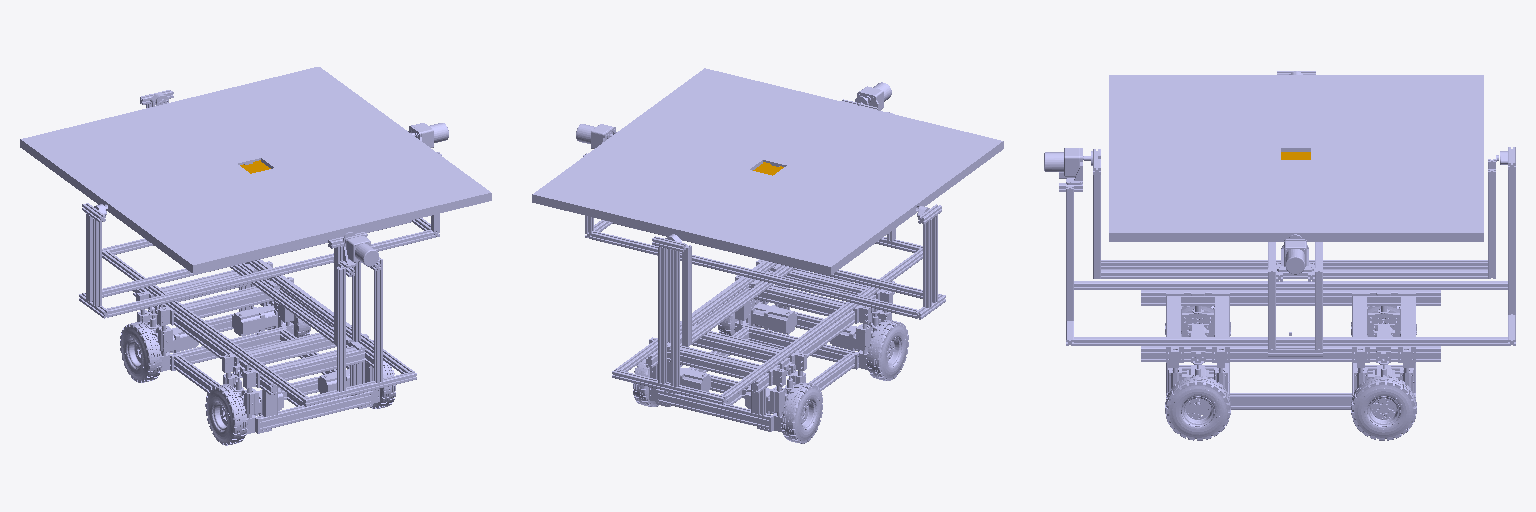
--- Facts derived from the render (not from the file) ---
Views: 3 orthographic renders of the robot side by side, from view 1: azimuth 30°, elevation 25°; view 2: azimuth 150°, elevation 25°; view 3: azimuth 270°, elevation 25°.
Model Mobile_Leveling_Platform_V2 with 21 links and 20 joints (2 revolute, 4 continuous, 14 fixed), rooted at base_link, posed every joint at zero.
Visible links, largest first — view 1: upper_link, mating_link, under_upper_link, base_link, front_leveling_link, rear_R_tire_link, front_R_tire_link; view 2: upper_link, mating_link, under_upper_link, base_link, rear_Leveling_link, rear_R_tire_link, front_R_tire_link, front_leveling_link, rear_L_tire_link; view 3: upper_link, mating_link, under_upper_link, base_link, rear_L_tire_link, front_L_tire_link, front_leveling_link, rear_Leveling_link.
Boxes of the visible links, left/top/right/bottom form: upper_link: left=20, top=67, right=491, bottom=273; mating_link: left=102, top=238, right=416, bottom=406; under_upper_link: left=79, top=123, right=448, bottom=345; base_link: left=137, top=263, right=379, bottom=434; front_leveling_link: left=337, top=234, right=382, bottom=391; rear_R_tire_link: left=120, top=321, right=161, bottom=382; front_R_tire_link: left=205, top=384, right=247, bottom=445; upper_link: left=532, top=68, right=1003, bottom=274; mating_link: left=612, top=237, right=922, bottom=404; under_upper_link: left=576, top=99, right=945, bottom=346; base_link: left=649, top=261, right=891, bottom=432; rear_Leveling_link: left=652, top=234, right=685, bottom=386; rear_R_tire_link: left=781, top=382, right=822, bottom=443; front_R_tire_link: left=867, top=320, right=908, bottom=380; front_leveling_link: left=855, top=82, right=895, bottom=241; rear_L_tire_link: left=633, top=359, right=658, bottom=406; upper_link: left=1109, top=75, right=1483, bottom=241; mating_link: left=1066, top=281, right=1515, bottom=367; under_upper_link: left=1093, top=71, right=1495, bottom=356; base_link: left=1166, top=306, right=1415, bottom=414; rear_L_tire_link: left=1351, top=375, right=1416, bottom=440; front_L_tire_link: left=1165, top=375, right=1230, bottom=440; front_leveling_link: left=1044, top=148, right=1083, bottom=320; rear_Leveling_link: left=1496, top=147, right=1515, bottom=314.
Bounding box of the posed robot: 1.78 × 1.89 × 1.09 m (x, y, z).
15 mesh visuals loaded from 16 distinct referenced files (15 binary STL); not drawn: 1 (reference not matched to a file when rendering).

URDF robot description (Mobile_Leveling_Platform_V2):
<?xml version="1.0" encoding="utf-8"?>
<!-- =================================================================================== -->
<!-- |    This document was autogenerated by xacro from Mobile_Leveling_Platform_V2.urdf.xacro | -->
<!-- |    EDITING THIS FILE BY HAND IS NOT RECOMMENDED                                 | -->
<!-- =================================================================================== -->
<!-- This URDF was automatically created by SolidWorks to URDF Exporter! Originally created by Stephen Brawner ([email redacted]) 
     Commit Version: 1.5.1-0-g916b5db  Build Version: 1.5.7152.31018
     For more information, please see http://wiki.ros.org/sw_urdf_exporter -->
<robot name="Mobile_Leveling_Platform_V2">
  <gazebo>
    <kp>1000000.0</kp>
    <kd>1.0</kd>
    <mu1>0.8</mu1>
    <mu2>0.8</mu2>
    <maxVel>0.0</maxVel>
    <minDepth>0.001</minDepth>
  </gazebo>
  <!--
<gazebo reference="base_link">
  <kp>1000000.0</kp>
  <kd>1.0</kd>
  <mu1>0.8</mu1>
  <mu2>0.8</mu2>
  <maxVel>0.0</maxVel>
  <minDepth>0.001</minDepth>
</gazebo>

	<gazebo reference="front_L_motor_rev_link">
	  <kp>1000000.0</kp>
	  <kd>1.0</kd>
	  <mu1>0.8</mu1>
	  <mu2>0.8</mu2>
	  <maxVel>0.0</maxVel>
	  <minDepth>0.001</minDepth>
	</gazebo>

		<gazebo reference="front_L_tire_link">
		  <kp>1000000.0</kp>
		  <kd>1.0</kd>
		  <mu1>0.8</mu1>
		  <mu2>0.8</mu2>
		  <maxVel>0.0</maxVel>
		  <minDepth>0.001</minDepth>
		</gazebo>


	<gazebo reference="front_R_motor_rev_link">
	  <kp>1000000.0</kp>
	  <kd>1.0</kd>
	  <mu1>0.8</mu1>
	  <mu2>0.8</mu2>
	  <maxVel>0.0</maxVel>
	  <minDepth>0.001</minDepth>
	</gazebo>

		<gazebo reference="front_R_tire_link">
		  <kp>1000000.0</kp>
		  <kd>1.0</kd>
		  <mu1>0.8</mu1>
		  <mu2>0.8</mu2>
		  <maxVel>0.0</maxVel>
		  <minDepth>0.001</minDepth>
		</gazebo>

	<gazebo reference="rear_L_motor_rev_link">
	  <kp>1000000.0</kp>
	  <kd>1.0</kd>
	  <mu1>0.8</mu1>
	  <mu2>0.8</mu2>
	  <maxVel>0.0</maxVel>
	  <minDepth>0.001</minDepth>
	</gazebo>

		<gazebo reference="rear_L_tire_link">
		  <kp>1000000.0</kp>
		  <kd>1.0</kd>
		  <mu1>0.8</mu1>
		  <mu2>0.8</mu2>
		  <maxVel>0.0</maxVel>
		  <minDepth>0.001</minDepth>
		</gazebo>

	<gazebo reference="rear_R_motor_rev_link">
	  <kp>1000000.0</kp>
	  <kd>1.0</kd>
	  <mu1>0.8</mu1>
	  <mu2>0.8</mu2>
	  <maxVel>0.0</maxVel>
	  <minDepth>0.001</minDepth>
	</gazebo>

		<gazebo reference="rear_R_tire_link">
		  <kp>1000000.0</kp>
		  <kd>1.0</kd>
		  <mu1>0.8</mu1>
		  <mu2>0.8</mu2>
		  <maxVel>0.0</maxVel>
		  <minDepth>0.001</minDepth>
		</gazebo>

	<gazebo reference="mating_link">
	  <kp>1000000.0</kp>
	  <kd>1.0</kd>
	  <mu1>0.8</mu1>
	  <mu2>0.8</mu2>
	  <maxVel>0.0</maxVel>
	  <minDepth>0.001</minDepth>
	</gazebo>

		<gazebo reference="front_leveling_link">
		  <kp>1000000.0</kp>
		  <kd>1.0</kd>
		  <mu1>0.8</mu1>
		  <mu2>0.8</mu2>
		  <maxVel>0.0</maxVel>
		  <minDepth>0.001</minDepth>
		</gazebo>

			<gazebo reference="front_motor_rev_link">
			  <kp>1000000.0</kp>
			  <kd>1.0</kd>
			  <mu1>0.8</mu1>
			  <mu2>0.8</mu2>
			  <maxVel>0.0</maxVel>
			  <minDepth>0.001</minDepth>
			</gazebo>

				<gazebo reference="under_upper_link">
				  <kp>1000000.0</kp>
				  <kd>1.0</kd>
				  <mu1>0.8</mu1>
				  <mu2>0.8</mu2>
				  <maxVel>0.0</maxVel>
				  <minDepth>0.001</minDepth>
				</gazebo>

					<gazebo reference="upper_motor_rev_link">
					  <kp>1000000.0</kp>
					  <kd>1.0</kd>
					  <mu1>0.8</mu1>
					  <mu2>0.8</mu2>
					  <maxVel>0.0</maxVel>
					  <minDepth>0.001</minDepth>
					</gazebo>

						<gazebo reference="upper_link">
						  <kp>1000000.0</kp>
						  <kd>1.0</kd>
						  <mu1>0.8</mu1>
						  <mu2>0.8</mu2>
						  <maxVel>0.0</maxVel>
						  <minDepth>0.001</minDepth>
						</gazebo>

<gazebo reference="rear_Leveling_link">
  <kp>1000000.0</kp>
  <kd>1.0</kd>
  <mu1>0.8</mu1>
  <mu2>0.8</mu2>
  <maxVel>0.0</maxVel>
  <minDepth>0.001</minDepth>
</gazebo>
-->
  <!--joint-->
  <gazebo reference="front_L_tire_joint">
    <implicitSpringDamper>true</implicitSpringDamper>
    <springStiffness>true</springStiffness>
  </gazebo>
  <gazebo reference="front_R_tire_joint">
    <implicitSpringDamper>true</implicitSpringDamper>
    <springStiffness>true</springStiffness>
  </gazebo>
  <gazebo reference="rear_L_tire_joint">
    <implicitSpringDamper>true</implicitSpringDamper>
    <springStiffness>true</springStiffness>
  </gazebo>
  <gazebo reference="rear_R_tire_joint">
    <implicitSpringDamper>true</implicitSpringDamper>
    <springStiffness>true</springStiffness>
  </gazebo>
  <link name="marker">
    <inertial>
      <origin rpy="0 0 0" xyz="0 0 0"/>
      <mass value="0.1"/>
      <inertia ixx="0.000001667" ixy="0" ixz="0" iyy="0.000001667" iyz="0" izz="0.000001667"/>
    </inertial>
    <visual>
      <origin rpy="0 0 0" xyz="0 0 0"/>
      <geometry>
        <box size="0.3556 0.3556 0.005"/>
      </geometry>
      <material name="ArucoVisualMarker7/Marker">
        <script>
          <uri materials="[local-path]/catkin_ws/src/Mobile_Leveling_Platform_V2/aruco_visual_marker_7/materials/textures/aruco_visual_marker_7_marker.material"/>
        </script>
        <ambient>1 1 1 1</ambient>
        <diffuse>1 1 1 1</diffuse>
        <specular>0 0 0 1</specular>
        <emissive>1 1 1 0</emissive>
        <shader type="vertex">
          <normal_map>__default__</normal_map>
        </shader>
      </material>
      <cast_shadows>1</cast_shadows>
      <transparency>0</transparency>
    </visual>
    <collision>
      <origin rpy="0 0 0" xyz="0 0 0"/>
      <geometry>
        <box size="0.3556 0.3556 1e-05"/>
      </geometry>
      <laser_retro>0</laser_retro>
      <max_contacts>10</max_contacts>
    </collision>
  </link>
  <link name="marker_pad">
    <inertial>
      <origin rpy="0 0 0" xyz="0 0 -1e-5"/>
      <mass value="0.1"/>
      <inertia ixx="0.000001667" ixy="0" ixz="0" iyy="0.000001667" iyz="0" izz="0.000001667"/>
    </inertial>
    <visual>
      <origin rpy="0 0 0" xyz="0 0 0"/>
      <geometry>
        <box size="0.3556 0.3556 1e-5"/>
      </geometry>
      <material name="Gazebo/White">
        <lighting>1</lighting>
        <script>
          <uri>file://media/materials/scripts/gazebo.material</uri>
        </script>
        <ambient>0.3 0.3 0.3 1</ambient>
        <diffuse>0.7 0.7 0.7 1</diffuse>
        <specular>0.01 0.01 0.01 1</specular>
        <emissive>1 1 1 0</emissive>
        <shader type="vertex">
          <normal_map>__default__</normal_map>
        </shader>
      </material>
      <cast_shadows>1</cast_shadows>
      <transparency>0</transparency>
    </visual>
    <collision>
      <origin rpy="0 0 0" xyz="0 0 0"/>
      <geometry>
        <box size="0.3556 0.3556 1e-05"/>
      </geometry>
      <laser_retro>0</laser_retro>
      <max_contacts>10</max_contacts>
    </collision>
  </link>
  <joint name="marker_markerpad_joint" type="fixed">
    <origin rpy="0 0 0" xyz="0 0 0"/>
    <parent link="marker"/>
    <child link="marker_pad"/>
    <axis xyz="0 0 0"/>
  </joint>
  <static>1</static>
  <allow_auto_disable>1</allow_auto_disable>
  <!--Mobile_Robot control-->
  <gazebo>
    <plugin filename="libgazebo_ros_skid_steer_drive.so" name="skid_steer_drive_controller">
      <updateRate>100</updateRate>
      <robotNamespace>/</robotNamespace>
      <leftFrontJoint>front_L_motor_rev_joint</leftFrontJoint>
      <rightFrontJoint>front_R_motor_rev_joint</rightFrontJoint>
      <leftRearJoint>rear_L_motor_rev_joint</leftRearJoint>
      <rightRearJoint>rear_R_motor_rev_joint</rightRearJoint>
      <wheelSeparation>0.67</wheelSeparation>
      <wheelDiameter>0.264453</wheelDiameter>
      <robotBaseFrame>base_link</robotBaseFrame>
      <torque>100</torque>
      <commandTopic>twist2gazebo</commandTopic>
      <broadcastTF>false</broadcastTF>
    </plugin>
  </gazebo>
  <!--Leveling_Platform control-->
  <gazebo>
    <plugin filename="libgazebo_ros_control.so" name="gazebo_ros_control">
      <robotNamespace>platform/MLP</robotNamespace>
      <robotSimType>gazebo_ros_control/DefaultRobotHWSim</robotSimType>
    </plugin>
  </gazebo>
  <transmission name="trans1">
    <type>transmission_interface/SimpleTransmission</type>
    <joint name="front_motor_rev_joint">
      <hardwareInterface>hardware_interface/PositionJointInterface</hardwareInterface>
    </joint>
    <actuator name="front_motor_rev_motor">
      <mechanicalReduction>50</mechanicalReduction>
      <hardwareInterface>hardware_interface/PositionJointInterface</hardwareInterface>
    </actuator>
  </transmission>
  <transmission name="trans2">
    <type>transmission_interface/SimpleTransmission</type>
    <joint name="upper_motor_rev_joint">
      <hardwareInterface>hardware_interface/PositionJointInterface</hardwareInterface>
    </joint>
    <actuator name="upper_motor_rev_motor">
      <mechanicalReduction>50</mechanicalReduction>
      <hardwareInterface>hardware_interface/PositionJointInterface</hardwareInterface>
    </actuator>
  </transmission>
  <!--IMU Plugin-->
  <gazebo reference="imu_link_upper">
    <gravity>true</gravity>
    <sensor name="imu_sensor" type="imu">
      <always_on>true</always_on>
      <update_rate>100</update_rate>
      <visualize>true</visualize>
      <topic>__default_topic__</topic>
      <plugin filename="libgazebo_ros_imu_sensor.so" name="imu_plugin">
        <topicName>imu_upper</topicName>
        <bodyName>imu_link_upper</bodyName>
        <updateRateHZ>10.0</updateRateHZ>
        <gaussianNoise>0.0</gaussianNoise>
        <xyzOffset>0 0 0</xyzOffset>
        <rpyOffset>0 0 0</rpyOffset>
        <frameName>imu_link_upper</frameName>
        <initialOrientationAsReference>false</initialOrientationAsReference>
      </plugin>
      <pose>0 0 0 0 0 0</pose>
    </sensor>
  </gazebo>
  <gazebo reference="imu_link_base">
    <gravity>true</gravity>
    <sensor name="imu_sensor" type="imu">
      <always_on>true</always_on>
      <update_rate>100</update_rate>
      <visualize>true</visualize>
      <topic>__default_topic__</topic>
      <plugin filename="libgazebo_ros_imu_sensor.so" name="imu_plugin">
        <topicName>imu_base</topicName>
        <bodyName>imu_link_base</bodyName>
        <updateRateHZ>10.0</updateRateHZ>
        <gaussianNoise>0.0</gaussianNoise>
        <xyzOffset>0 0 0</xyzOffset>
        <rpyOffset>0 0 0</rpyOffset>
        <frameName>imu_link_base</frameName>
        <initialOrientationAsReference>false</initialOrientationAsReference>
      </plugin>
      <pose>0 0 0 0 0 0</pose>
    </sensor>
  </gazebo>
  <!-- GPS -->
  <gazebo>
    <plugin filename="libhector_gazebo_ros_gps.so" name="GazeboRosGps">
      <updateRate>100</updateRate>
      <robotNamespace>platform/MLP</robotNamespace>
      <bodyName>GPS_link</bodyName>
      <frameId>default_empty</frameId>
      <topicName>fix</topicName>
      <velocityTopicName>fix_velocity</velocityTopicName>
      <referenceLatitude>36.146581</referenceLatitude>
      <referenceLongitude>128.388039</referenceLongitude>
      <referenceHeading>0</referenceHeading>
      <referenceAltitude>0</referenceAltitude>
      <status>STATIS_FIX</status>
      <service>SERVICE_GPS	</service>
      <offset>0 0 0 0 0 0</offset>
      <drift>0</drift>
      <driftFrequency>100</driftFrequency>
      <gaussianNoise>0</gaussianNoise>
      <velocityOffset>0</velocityOffset>
      <velocityDrift>0</velocityDrift>
      <velocityDriftFrequency>100</velocityDriftFrequency>
      <velocityGaussianNoise>0</velocityGaussianNoise>
    </plugin>
  </gazebo>
  <!--link color-->
  <gazebo reference="beacon_link">
    <material>Gazebo/Green</material>
  </gazebo>
  <gazebo reference="GPS_link">
    <material>Gazebo/Black</material>
  </gazebo>
  <!--link & joint-->
  <link name="base_link">
    <inertial>
      <origin rpy="0 0 0" xyz="0 0 0"/>
      <mass value="15.686"/>
      <inertia ixx="3.1779" ixy="0" ixz="0" iyy="3.6754" iyz="0" izz="4.4975"/>
    </inertial>
    <visual>
      <origin rpy="0 0 0" xyz="0 1.5 0"/>
      <geometry>
        <mesh filename="package://Mobile_Leveling_Platform_V2/meshes/base_link.STL"/>
      </geometry>
      <material name="">
        <color rgba="0.82353 0.82353 1 1"/>
      </material>
    </visual>
    <collision>
      <origin rpy="0 0 0" xyz="0 0 0"/>
      <geometry>
        <box size="0.64 0.998 0.222"/>
      </geometry>
    </collision>
  </link>
  <joint name="imu_base_joint" type="fixed">
    <origin rpy="0 0 0" xyz="0 0 0.111"/>
    <parent link="base_link"/>
    <child link="imu_link_base"/>
    <axis xyz="0 0 0"/>
  </joint>
  <link name="imu_link_base">
    <inertial>
      <origin rpy="0 0 0" xyz="0 0 0"/>
      <mass value="0.1"/>
      <inertia ixx="0.000001667" ixy="0" ixz="0" iyy="0.000001667" iyz="0" izz="0.000001667"/>
    </inertial>
    <visual>
      <origin rpy="0 0 0" xyz="0 0 0"/>
      <geometry>
        <box size="0.01 0.01 0.01"/>
      </geometry>
      <material name="">
        <color rgba="0.82353 0.82353 1 1"/>
      </material>
    </visual>
    <collision>
      <origin rpy="0 0 0" xyz="0 0 0"/>
      <geometry>
        <box size="0.01 0.01 0.01"/>
      </geometry>
    </collision>
  </link>
  <link name="front_L_motor_rev_link">
    <inertial>
      <origin rpy="0 0 0" xyz="0 0 0"/>
      <mass value="0.075717"/>
      <inertia ixx="3.7606E-05" ixy="1.0136E-07" ixz="-5.7378E-07" iyy="3.7419E-05" iyz="-1.7765E-07" izz="3.9868E-05"/>
    </inertial>
    <visual>
      <origin rpy="0 0 0" xyz="0 0 0"/>
      <geometry>
        <mesh filename="package://Mobile_Leveling_Platform_V2/meshes/front_L_motor_rev_link.STL"/>
      </geometry>
      <material name="">
        <color rgba="0.82353 0.82353 1 1"/>
      </material>
    </visual>
    <collision>
      <origin rpy="0 0 0" xyz="0 0 0"/>
      <geometry>
        <mesh filename="package://Mobile_Leveling_Platform_V2/meshes/front_L_motor_rev_link.STL"/>
      </geometry>
    </collision>
  </link>
  <joint name="front_L_motor_rev_joint" type="continuous">
    <origin rpy="0 -1.5708 0" xyz="0.363 -0.3709 -0.041791"/>
    <parent link="base_link"/>
    <child link="front_L_motor_rev_link"/>
    <axis xyz="0 0 -1"/>
    <dynamics damping="0.7" friction="0.0"/>
  </joint>
  <link name="front_L_tire_link">
    <inertial>
      <origin rpy="0 0 0" xyz="0 0 0"/>
      <mass value="2.9551"/>
      <inertia ixx="0.029016" ixy="0" ixz="0" iyy="0.015583" iyz="0" izz="0.015587"/>
    </inertial>
    <visual>
      <origin rpy="0 0 0" xyz="0 0 0"/>
      <geometry>
        <mesh filename="package://Mobile_Leveling_Platform_V2/meshes/front_L_tire_link.STL"/>
      </geometry>
      <material name="">
        <color rgba="0.82353 0.82353 1 1"/>
      </material>
    </visual>
    <collision>
      <origin rpy="0 0 0" xyz="0 0 0"/>
      <geometry>
        <mesh filename="package://Mobile_Leveling_Platform_V2/meshes/front_L_tire_link.STL"/>
      </geometry>
    </collision>
  </link>
  <joint name="front_L_tire_joint" type="fixed">
    <origin rpy="0.13209 1.5708 0" xyz="0 0 -0.011"/>
    <parent link="front_L_motor_rev_link"/>
    <child link="front_L_tire_link"/>
    <axis xyz="0 0 0"/>
  </joint>
  <link name="front_R_motor_link">
    <inertial>
      <origin rpy="0 0 0" xyz="0 0 0"/>
      <mass value="0.075717"/>
      <inertia ixx="3.7606E-05" ixy="1.0136E-07" ixz="-5.7378E-07" iyy="3.7419E-05" iyz="-1.7765E-07" izz="3.9868E-05"/>
    </inertial>
    <visual>
      <origin rpy="0 0 0" xyz="0 0 0"/>
      <geometry>
        <mesh filename="package://Mobile_Leveling_Platform_V2/meshes/front_R_motor_link.STL"/>
      </geometry>
      <material name="">
        <color rgba="0.82353 0.82353 1 1"/>
      </material>
    </visual>
    <collision>
      <origin rpy="0 0 0" xyz="0 0 0"/>
      <geometry>
        <mesh filename="package://Mobile_Leveling_Platform_V2/meshes/front_R_motor_link.STL"/>
      </geometry>
    </collision>
  </link>
  <joint name="front_R_motor_rev_joint" type="continuous">
    <origin rpy="3.1416 -1.5708 0" xyz="-0.363 -0.3709 -0.041791"/>
    <parent link="base_link"/>
    <child link="front_R_motor_link"/>
    <axis xyz="0 0 1"/>
    <dynamics damping="0.7" friction="0.8"/>
  </joint>
  <link name="front_R_tire_link">
    <inertial>
      <origin rpy="0 0 0" xyz="0 0 0"/>
      <mass value="2.9551"/>
      <inertia ixx="0.029016" ixy="0" ixz="0" iyy="0.015583" iyz="0" izz="0.015587"/>
    </inertial>
    <visual>
      <origin rpy="0 0 0" xyz="0 0 0"/>
      <geometry>
        <mesh filename="package://Mobile_Leveling_Platform_V2/meshes/front_R_tire_link.STL"/>
      </geometry>
      <material name="">
        <color rgba="0.82353 0.82353 1 1"/>
      </material>
    </visual>
    <collision>
      <origin rpy="0 0 0" xyz="0 0 0"/>
      <geometry>
        <mesh filename="package://Mobile_Leveling_Platform_V2/meshes/front_R_tire_link.STL"/>
      </geometry>
    </collision>
  </link>
  <joint name="front_R_tire_joint" type="fixed">
    <origin rpy="0.14726 1.5708 0" xyz="0 0 -0.011"/>
    <parent link="front_R_motor_link"/>
    <child link="front_R_tire_link"/>
    <axis xyz="0 0 0"/>
  </joint>
  <link name="rear_L_motor_rev_link">
    <inertial>
      <origin rpy="0 0 0" xyz="0 0 0"/>
      <mass value="0.075717"/>
      <inertia ixx="3.7606E-05" ixy="1.0136E-07" ixz="-5.7378E-07" iyy="3.7419E-05" iyz="-1.7765E-07" izz="3.9868E-05"/>
    </inertial>
    <visual>
      <origin rpy="0 0 0" xyz="0 0 0"/>
      <geometry>
        <mesh filename="package://Mobile_Leveling_Platform_V2/meshes/rear_L_motor_rev_link.STL"/>
      </geometry>
      <material name="">
        <color rgba="0.82353 0.82353 1 1"/>
      </material>
    </visual>
    <collision>
      <origin rpy="0 0 0" xyz="0 0 0"/>
      <geometry>
        <mesh filename="package://Mobile_Leveling_Platform_V2/meshes/rear_L_motor_rev_link.STL"/>
      </geometry>
    </collision>
  </link>
  <joint name="rear_L_motor_rev_joint" type="continuous">
    <origin rpy="0 -1.5708 0" xyz="0.363 0.3731 -0.041791"/>
    <parent link="base_link"/>
    <child link="rear_L_motor_rev_link"/>
    <axis xyz="0 0 -1"/>
    <dynamics damping="0.7" friction="0.8"/>
  </joint>
  <link name="rear_L_tire_link">
    <inertial>
      <origin rpy="0 0 0" xyz="0 0 0"/>
      <mass value="2.9551"/>
      <inertia ixx="0.029016" ixy="0" ixz="0" iyy="0.015583" iyz="0" izz="0.015587"/>
    </inertial>
    <visual>
      <origin rpy="0 0 0" xyz="0 0 0"/>
      <geometry>
        <mesh filename="package://Mobile_Leveling_Platform_V2/meshes/rear_L_tire_link.STL"/>
      </geometry>
      <material name="">
        <color rgba="0.82353 0.82353 1 1"/>
      </material>
    </visual>
    <collision>
      <origin rpy="0 0 0" xyz="0 0 0"/>
      <geometry>
        <mesh filename="package://Mobile_Leveling_Platform_V2/meshes/rear_L_tire_link.STL"/>
      </geometry>
    </collision>
  </link>
  <joint name="rear_L_tire_joint" type="fixed">
    <origin rpy="0.13537 -1.5708 0" xyz="0 0 -0.011"/>
    <parent link="rear_L_motor_rev_link"/>
    <child link="rear_L_tire_link"/>
    <axis xyz="0 0 0"/>
  </joint>
  <link name="rear_R_motor_rev_link">
    <inertial>
      <origin rpy="0 0 0" xyz="0 0 0"/>
      <mass value="0.075717"/>
      <inertia ixx="3.7606E-05" ixy="1.0136E-07" ixz="-5.7378E-07" iyy="3.7419E-05" iyz="-1.7765E-07" izz="3.9868E-05"/>
    </inertial>
    <visual>
      <origin rpy="0 0 0" xyz="0 0 0"/>
      <geometry>
        <mesh filename="package://Mobile_Leveling_Platform_V2/meshes/rear_R_motor_rev_link.STL"/>
      </geometry>
      <material name="">
        <color rgba="0.82353 0.82353 1 1"/>
      </material>
    </visual>
    <collision>
      <origin rpy="0 0 0" xyz="0 0 0"/>
      <geometry>
        <mesh filename="package://Mobile_Leveling_Platform_V2/meshes/rear_R_motor_rev_link.STL"/>
      </geometry>
    </collision>
  </link>
  <joint name="rear_R_motor_rev_joint" type="continuous">
    <origin rpy="3.1416 -1.5708 0" xyz="-0.363 0.3731 -0.041791"/>
    <parent link="base_link"/>
    <child link="rear_R_motor_rev_link"/>
    <axis xyz="0 0 1"/>
    <dynamics damping="0.7" friction="0.8"/>
  </joint>
  <link name="rear_R_tire_link">
    <inertial>
      <origin rpy="0 0 0" xyz="0 0 0"/>
      <mass value="2.9551"/>
      <inertia ixx="0.029016" ixy="0" ixz="0" iyy="0.015583" iyz="0" izz="0.015587"/>
    </inertial>
    <visual>
      <origin rpy="0 0 0" xyz="0 0 0"/>
      <geometry>
        <mesh filename="package://Mobile_Leveling_Platform_V2/meshes/rear_R_tire_link.STL"/>
      </geometry>
      <material name="">
        <color rgba="0.82353 0.82353 1 1"/>
      </material>
    </visual>
    <collision>
      <origin rpy="0 0 0" xyz="0 0 0"/>
      <geometry>
        <mesh filename="package://Mobile_Leveling_Platform_V2/meshes/rear_R_tire_link.STL"/>
      </geometry>
    </collision>
  </link>
  <joint name="rear_R_tire_joint" type="fixed">
    <origin rpy="0.1395 1.5708 0" xyz="0 0 -0.011"/>
    <parent link="rear_R_motor_rev_link"/>
    <child link="rear_R_tire_link"/>
    <axis xyz="0 0 0"/>
  </joint>
  <link name="mating_link">
    <inertial>
      <origin rpy="0 0 0" xyz="0.28001 -0.915 -0.041642"/>
      <mass value="15"/>
      <!--mating_link_ mass:14.754-->
      <inertia ixx="4.107625" ixy="0" ixz="0" iyy="0.5245" iyz="0" izz="4.607125"/>
    </inertial>
    <visual>
      <origin rpy="0 0 0" xyz="0 0 0"/>
      <geometry>
        <mesh filename="package://Mobile_Leveling_Platform_V2/meshes/mating_link.STL"/>
      </geometry>
      <material name="">
        <color rgba="0.82353 0.82353 1 1"/>
      </material>
    </visual>
    <collision>
      <origin rpy="0 0 0" xyz="0.28001 -0.915 -0.041642"/>
      <geometry>
        <box size="0.64 1.810 0.1"/>
      </geometry>
    </collision>
  </link>
  <joint name="mating_joint" type="fixed">
    <origin rpy="0 0 0" xyz="-0.28 0.88511 0.20249"/>
    <parent link="base_link"/>
    <child link="mating_link"/>
    <axis xyz="0 0 0"/>
  </joint>
  <link name="front_leveling_link">
    <inertial>
      <origin rpy="0 0 0" xyz="-0.094 -0.0078388 0.49881"/>
      <mass value="1.9876"/>
      <inertia ixx="0.025468" ixy="0" ixz="0" iyy="0.024479" iyz="0" izz="0.0026287"/>
    </inertial>
    <visual>
      <origin rpy="0 0 0" xyz="0 0 0"/>
      <geometry>
        <mesh filename="package://Mobile_Leveling_Platform_V2/meshes/front_leveling_link.STL"/>
      </geometry>
      <material name="">
        <color rgba="0.82353 0.82353 1 1"/>
      </material>
    </visual>
    <collision>
      <origin rpy="0 0 0" xyz="-0.1 -0.03 0.355"/>
      <geometry>
        <box size="0.218 0.153 0.697"/>
      </geometry>
    </collision>
  </link>
  <joint name="front_leveling_joint" type="fixed">
    <origin rpy="0 0 0" xyz="0.374 -1.768 0.015"/>
    <parent link="mating_link"/>
    <child link="front_leveling_link"/>
    <axis xyz="0 0 0"/>
  </joint>
  <link name="front_motor_rev_link">
    <inertial>
      <origin rpy="0 0 0" xyz="9.7145E-16 0.030907 2.2204E-16"/>
      <mass value="0.025329"/>
      <inertia ixx="6.8991E-06" ixy="-2.7437E-22" ixz="3.1069E-40" iyy="1.0461E-05" iyz="1.7456E-23" izz="6.8991E-06"/>
    </inertial>
    <visual>
      <origin rpy="0 0 0" xyz="0 0 0"/>
      <geometry>
        <mesh filename="package://Mobile_Leveling_Platform_V2/meshes/front_motor_rev_link.STL"/>
      </geometry>
      <material name="">
        <color rgba="0.82353 0.82353 1 1"/>
      </material>
    </visual>
    <collision>
      <origin rpy="0 0 0" xyz="0 0 0"/>
      <geometry>
        <mesh filename="package://Mobile_Leveling_Platform_V2/meshes/front_motor_rev_link.STL"/>
      </geometry>
    </collision>
  </link>
  <joint name="GPS_joint" type="fixed">
    <origin rpy="0 3.141592 0" xyz="9.7145E-16 0.030907 0.0095"/>
    <parent link="front_motor_rev_link"/>
    <child link="GPS_link"/>
    <axis xyz="0 0 0"/>
  </joint>
  <link name="GPS_link">
    <inertial>
      <origin rpy="0 3.141592 0" xyz="9.7145E-16 0.030907 0.015"/>
      <mass value="0.1"/>
      <inertia ixx="0.000001667" ixy="0" ixz="0" iyy="0.000001667" iyz="0" izz="0.000001667"/>
    </inertial>
    <visual>
      <origin rpy="0 3.141592 0" xyz="9.7145E-16 0.030907 0.015"/>
      <geometry>
        <box size="0.01 0.01 0.01"/>
      </geometry>
      <material name="">
        <color rgba="0.82353 0.82353 1 1"/>
      </material>
    </visual>
    <collision>
      <origin rpy="0 3.141592 0" xyz="9.7145E-16 0.030907 0.015"/>
      <geometry>
        <box size="0.01 0.01 0.01"/>
      </geometry>
    </collision>
  </link>
  <joint name="front_motor_rev_joint" type="revolute">
    <origin rpy="3.1416 0 -3.1416" xyz="-0.094 0.055 0.67"/>
    <parent link="front_leveling_link"/>
    <child link="front_motor_rev_link"/>
    <axis xyz="0 1 0"/>
    <limit effort="10" lower="-0.5236" upper="0.5236" velocity="10"/>
    <dynamics damping="0.7" friction="0.8"/>
  </joint>
  <link name="under_upper_link">
    <inertial>
      <origin rpy="0.017453289 0 0" xyz="0.0862 0.80081 -0.32342"/>
      <mass value="8.5158"/>
      <inertia ixx="1.146358675" ixy="0" ixz="0" iyy="1.146358675" iyz="0" izz="1.930760367"/>
    </inertial>
    <visual>
      <origin rpy="0 0 0" xyz="0 0 0"/>
      <geometry>
        <mesh filename="package://Mobile_Leveling_Platform_V2/meshes/under_upper_link.STL"/>
      </geometry>
      <material name="">
        <color rgba="0.82353 0.82353 1 1"/>
      </material>
    </visual>
    <collision>
      <origin rpy="0 0 0" xyz="0.0862 0.80081 -0.32342"/>
      <geometry>
        <box size="1.166345146172 1.166345146172 0.505"/>
        <!--0.505-->
      </geometry>
    </collision>
  </link>
  <joint name="under_upper_joint" type="fixed">
    <origin rpy="-3.1416 0 -3.1416" xyz="0.087597 0.053 0.015743"/>
    <parent link="front_motor_rev_link"/>
    <child link="under_upper_link"/>
    <axis xyz="0 0 0"/>
  </joint>
  <link name="upper_motor_rev_link">
    <inertial>
      <origin rpy="0 0 0" xyz="-2.2204E-16 0.030907 1.1102E-16"/>
      <mass value="0.025329"/>
      <inertia ixx="6.8991E-06" ixy="5.9833E-22" ixz="-5.5917E-22" iyy="1.0461E-05" iyz="1.757E-23" izz="6.8991E-06"/>
    </inertial>
    <visual>
      <origin rpy="0 0 0" xyz="0 0 0"/>
      <geometry>
        <mesh filename="package://Mobile_Leveling_Platform_V2/meshes/upper_motor_rev_link.STL"/>
      </geometry>
      <material name="">
        <color rgba="0.82353 0.82353 1 1"/>
      </material>
    </visual>
    <collision>
      <origin rpy="0 0 0" xyz="0 0 0"/>
      <geometry>
        <mesh filename="package://Mobile_Leveling_Platform_V2/meshes/upper_motor_rev_link.STL"/>
      </geometry>
    </collision>
  </link>
  <joint name="upper_motor_rev_joint" type="revolute">
    <origin rpy="0 -0.0058456 1.5708" xyz="0.877 0.79375 0"/>
    <parent link="under_upper_link"/>
    <child link="upper_motor_rev_link"/>
    <axis xyz="0 -1 0"/>
    <limit effort="10" lower="-0.5236" upper="0.5236" velocity="10"/>
    <dynamics damping="0.7" friction="0.8"/>
  </joint>
  <link name="upper_link">
    <inertial>
      <origin rpy="0 0 0" xyz="-0.00040832 -0.00031982 -0.0067744"/>
      <mass value="12.075"/>
      <inertia ixx="2.264968125" ixy="0" ixz="0" iyy="2.264968125" iyz="0" izz="4.528125"/>
    </inertial>
    <visual>
      <origin rpy="0 0 0" xyz="0 0 0"/>
      <geometry>
        <mesh filename="package://Mobile_Leveling_Platform_V2/meshes/upper.STL"/>
      </geometry>
      <material name="">
        <color rgba="0.82353 0.82353 1 1"/>
      </material>
    </visual>
    <collision>
      <origin rpy="0 0 0" xyz="-0.00040832 -0.00031982 -0.0067744"/>
      <geometry>
        <box size="1.5 1.5 0.03"/>
      </geometry>
    </collision>
  </link>
  <!--  <joint
     name="beacon_case_1"
     type="fixed">
     <origin
        xyz="0 0 0"
        rpy="0 0 0" />
     <parent
        link="upper_link" />
     <child
        link="beacon_case_1" />
     <axis
        xyz="0 0 0" />
  </joint>
  <link name ="beacon_case_1">
    <inertial>
      <origin
        xyz="0 0 0" 
        rpy="0 0 0" />
      <mass
        value="0.1" />
      <inertia
        ixx="0.000001667"
        ixy="0"
        ixz="0"
        iyy="0.000001667"
        iyz="0"
        izz="0.000001667" />
    </inertial>
    <visual>
      <origin
        xyz="-0.06 0 0.02"
        rpy="0 0 0" />
      <geometry>
	<box size = "0.005 0.12 0.04"/>
      </geometry>
      <material
        name="">
        <color
          rgba="0.82353 0.82353 1 1" />
      </material>
    </visual>
    <collision>
      <origin
        xyz="-0.06 0 0.02"
        rpy="0 0 0" />
      <geometry>
	<box size = "0.005 0.12 0.04"/>
      </geometry>
    </collision>
  </link>

  <joint
     name="beacon_case_2"
     type="fixed">
     <origin
        xyz="0 0 0"
        rpy="0 0 0" />
     <parent
        link="upper_link" />
     <child
        link="beacon_case_2" />
     <axis
        xyz="0 0 0" />
  </joint>
  <link name ="beacon_case_2">
    <inertial>
      <origin
        xyz="0 0 0" 
        rpy="0 0 0" />
      <mass
        value="0.1" />
      <inertia
        ixx="0.000001667"
        ixy="0"
        ixz="0"
        iyy="0.000001667"
        iyz="0"
        izz="0.000001667" />
    </inertial>
    <visual>
      <origin
        xyz="0.06 0 0.02"
        rpy="0 0 0" />
      <geometry>
	<box size = "0.005 0.12 0.04"/>
      </geometry>
      <material
        name="">
        <color
          rgba="0.82353 0.82353 1 1" />
      </material>
    </visual>
    <collision>
      <origin
        xyz="0.06 0 0.02"
        rpy="0 0 0" />
      <geometry>
	<box size = "0.005 0.12 0.04"/>
      </geometry>
    </collision>
  </link>

  <joint
     name="beacon_case_3"
     type="fixed">
     <origin
        xyz="0 0 0"
        rpy="0 0 0" />
     <parent
        link="upper_link" />
     <child
        link="beacon_case_3" />
     <axis
        xyz="0 0 0" />
  </joint>
  <link name ="beacon_case_3">
    <inertial>
      <origin
        xyz="0 0 0" 
        rpy="0 0 0" />
      <mass
        value="0.1" />
      <inertia
        ixx="0.000001667"
        ixy="0"
        ixz="0"
        iyy="0.000001667"
        iyz="0"
        izz="0.000001667" />
    </inertial>
    <visual>
      <origin
        xyz="0 -0.0575 0.02"
        rpy="0 0 0" />
      <geometry>
	<box size = "0.115 0.005 0.04"/>
      </geometry>
      <material
        name="">
        <color
          rgba="0.82353 0.82353 1 1" />
      </material>
    </visual>
    <collision>
      <origin
        xyz="0 -0.0575 0.02"
        rpy="0 0 0" />
      <geometry>
	<box size = "0.115 0.005 0.04"/>
      </geometry>
    </collision>
  </link>

  <joint
     name="beacon_case_4"
     type="fixed">
     <origin
        xyz="0 0 0"
        rpy="0 0 0" />
     <parent
        link="upper_link" />
     <child
        link="beacon_case_4" />
     <axis
        xyz="0 0 0" />
  </joint>
  <link name ="beacon_case_4">
    <inertial>
      <origin
        xyz="0 0 0" 
        rpy="0 0 0" />
      <mass
        value="0.1" />
      <inertia
        ixx="0.000001667"
        ixy="0"
        ixz="0"
        iyy="0.000001667"
        iyz="0"
        izz="0.000001667" />
    </inertial>
    <visual>
      <origin
        xyz="0 0.0575 0.02"
        rpy="0 0 0" />
      <geometry>
	<box size = "0.115 0.005 0.04"/>
      </geometry>
      <material
        name="">
        <color
          rgba="0.82353 0.82353 1 1" />
      </material>
    </visual>
    <collision>
      <origin
        xyz="0 0.0575 0.02"
        rpy="0 0 0" />
      <geometry>
	<box size = "0.115 0.005 0.04"/>
      </geometry>
    </collision>
  </link>-->
  <!--
  <joint
     name="beacon_case_1"
     type="fixed">
     <origin
        xyz="0 0 0"
        rpy="0 0 0" />
     <parent
        link="upper_link" />
     <child
        link="beacon_case_1" />
     <axis
        xyz="0 0 0" />
  </joint>
  <link name ="beacon_case_1">
    <inertial>
      <origin
        xyz="0 0 0" 
        rpy="0 0 0" />
      <mass
        value="0.1" />
      <inertia
        ixx="0.000001667"
        ixy="0"
        ixz="0"
        iyy="0.000001667"
        iyz="0"
        izz="0.000001667" />
    </inertial>
    <visual>
      <origin
        xyz="-0.4 0 0.02"
        rpy="0 0 0" />
      <geometry>
	<box size = "0.7 1.5 0.02"/>
      </geometry>
      <material
        name="">
        <color
          rgba="0.82353 0.82353 1 1" />
      </material>
    </visual>
    <collision>
      <origin
        xyz="-0.4 0 0.02"
        rpy="0 0 0" />
      <geometry>
	<box size = "0.7 1.5 0.02"/>
      </geometry>
    </collision>
  </link>

  <joint
     name="beacon_case_2"
     type="fixed">
     <origin
        xyz="0 0 0"
        rpy="0 0 0" />
     <parent
        link="upper_link" />
     <child
        link="beacon_case_2" />
     <axis
        xyz="0 0 0" />
  </joint>
  <link name ="beacon_case_2">
    <inertial>
      <origin
        xyz="0 0 0" 
        rpy="0 0 0" />
      <mass
        value="0.1" />
      <inertia
        ixx="0.000001667"
        ixy="0"
        ixz="0"
        iyy="0.000001667"
        iyz="0"
        izz="0.000001667" />
    </inertial>
    <visual>
      <origin
        xyz="0.4 0 0.02"
        rpy="0 0 0" />
      <geometry>
	<box size = "0.7 1.5 0.02"/>
      </geometry>
      <material
        name="">
        <color
          rgba="0.82353 0.82353 1 1" />
      </material>
    </visual>
    <collision>
      <origin
        xyz="0.4 0 0.02"
        rpy="0 0 0" />
      <geometry>
	<box size = "0.7 1.5 0.02"/>
      </geometry>
    </collision>
  </link>

  <joint
     name="beacon_case_3"
     type="fixed">
     <origin
        xyz="0 0 0"
        rpy="0 0 0" />
     <parent
        link="upper_link" />
     <child
        link="beacon_case_3" />
     <axis
        xyz="0 0 0" />
  </joint>
  <link name ="beacon_case_3">
    <inertial>
      <origin
        xyz="0 0 0" 
        rpy="0 0 0" />
      <mass
        value="0.1" />
      <inertia
        ixx="0.000001667"
        ixy="0"
        ixz="0"
        iyy="0.000001667"
        iyz="0"
        izz="0.000001667" />
    </inertial>
    <visual>
      <origin
        xyz="0 -0.4 0.02"
        rpy="0 0 0" />
      <geometry>
	<box size = "0.1 0.7 0.02"/>
      </geometry>
      <material
        name="">
        <color
          rgba="0.82353 0.82353 1 1" />
      </material>
    </visual>
    <collision>
      <origin
        xyz="0 -0.4 0.02"
        rpy="0 0 0" />
      <geometry>
	<box size = "0.1 0.7 0.02"/>
      </geometry>
    </collision>
  </link>

  <joint
     name="beacon_case_4"
     type="fixed">
     <origin
        xyz="0 0 0"
        rpy="0 0 0" />
     <parent
        link="upper_link" />
     <child
        link="beacon_case_4" />
     <axis
        xyz="0 0 0" />
  </joint>
  <link name ="beacon_case_4">
    <inertial>
      <origin
        xyz="0 0 0" 
        rpy="0 0 0" />
      <mass
        value="0.1" />
      <inertia
        ixx="0.000001667"
        ixy="0"
        ixz="0"
        iyy="0.000001667"
        iyz="0"
        izz="0.000001667" />
    </inertial>
    <visual>
      <origin
        xyz="0 0.4 0.02"
        rpy="0 0 0" />
      <geometry>
	<box size = "0.1 0.7 0.02"/>
      </geometry>
      <material
        name="">
        <color
          rgba="0.82353 0.82353 1 1" />
      </material>
    </visual>
    <collision>
      <origin
        xyz="0 0.4 0.02"
        rpy="0 0 0" />
      <geometry>
	<box size = "0.1 0.7 0.02"/>
      </geometry>
    </collision>
  </link>
		-->
  <joint name="marker_joint" type="fixed">
    <origin rpy="0 0 0" xyz="0 0 0"/>
    <parent link="upper_link"/>
    <child link="marker"/>
    <axis xyz="0 0 0"/>
  </joint>
  <!--<joint
    name="beacon_joint"
    type="fixed">
    <origin
      xyz="-0.00040832 -0.00031982 0.004"

      rpy="0 0 0" />
    <parent
      link="upper_link" />
    <child
      link="beacon_link" />
    <axis
      xyz="0 0 0" />
  </joint>
  <link name="beacon_link">
    <inertial>
      <mass value="10.0"/>
      <origin rpy="0  0  0" xyz="0 0 0"/>
      <inertia ixx="0.01" ixy="0" ixz="0" iyy="0.01" iyz="0" izz="0.01"/>
    </inertial>
    <collision name="beacon_collision">
      <origin rpy="0  0  0" xyz="0.00040832 -0.00031982 0.005"/>
      <geometry>
        <box size="0.1 0.1 0.01"/>
      </geometry>
    </collision>
    <visual name="beacon_visual">
      <origin rpy="0  0  0" xyz="0.00040832 -0.00031982 0.005"/>
      <geometry>
        <box size="0.1 0.1 0.02"/>
      </geometry>
    </visual>
  </link>-->
  <joint name="upper_joint" type="fixed">
    <origin rpy="-0.0058456 0 -1.5708" xyz="0.0038376 0.788 0.014978"/>
    <parent link="upper_motor_rev_link"/>
    <child link="upper_link"/>
    <axis xyz="0 0 0"/>
  </joint>
  <link name="imu_link_upper">
    <inertial>
      <origin rpy="0 0 0" xyz="-0.00040832 -0.00031982 -0.01"/>
      <mass value="0.1"/>
      <inertia ixx="0.000001667" ixy="0" ixz="0" iyy="0.000001667" iyz="0" izz="0.000001667"/>
    </inertial>
    <visual>
      <origin rpy="0 0 0" xyz="-0.00040832 -0.00031982 -0.02"/>
      <geometry>
        <box size="0.01 0.01 0.01"/>
      </geometry>
      <material name="">
        <color rgba="255 255 255"/>
      </material>
    </visual>
    <collision>
      <origin rpy="0 0 0" xyz="-0.00040832 -0.00031982 -0.02"/>
      <geometry>
        <box size="0.12 0.12 0.12"/>
      </geometry>
    </collision>
  </link>
  <joint name="imu_joint" type="fixed">
    <origin rpy="0 0 0" xyz="-0.00040832 -0.00031982 -0.015"/>
    <parent link="upper_link"/>
    <child link="imu_link_upper"/>
    <axis xyz="0 0 0"/>
  </joint>
  <link name="rear_Leveling_link">
    <inertial>
      <origin rpy="0 0 0" xyz="0.03175 -0.0029488 0.36"/>
      <mass value="2.75"/>
      <inertia ixx="0.025468" ixy="0" ixz="0" iyy="0.024479" iyz="0" izz="0.0026287"/>
    </inertial>
    <visual>
      <origin rpy="0 0 0" xyz="0 0 0"/>
      <geometry>
        <mesh filename="package://Mobile_Leveling_Platform_V2/meshes/rear_Leveling_link.STL"/>
      </geometry>
      <material name="">
        <color rgba="0.82353 0.82353 1 1"/>
      </material>
    </visual>
    <collision>
      <origin rpy="0 0 0" xyz="0.03175 -0.0029488 0.36"/>
      <geometry>
        <box size="0.1535 0.080 0.697"/>
      </geometry>
    </collision>
  </link>
  <joint name="rear_Leveling_joint" type="fixed">
    <origin rpy="0 0 0" xyz="0.24825 0 0.015"/>
    <parent link="mating_link"/>
    <child link="rear_Leveling_link"/>
    <axis xyz="0 0 0"/>
  </joint>
</robot>
